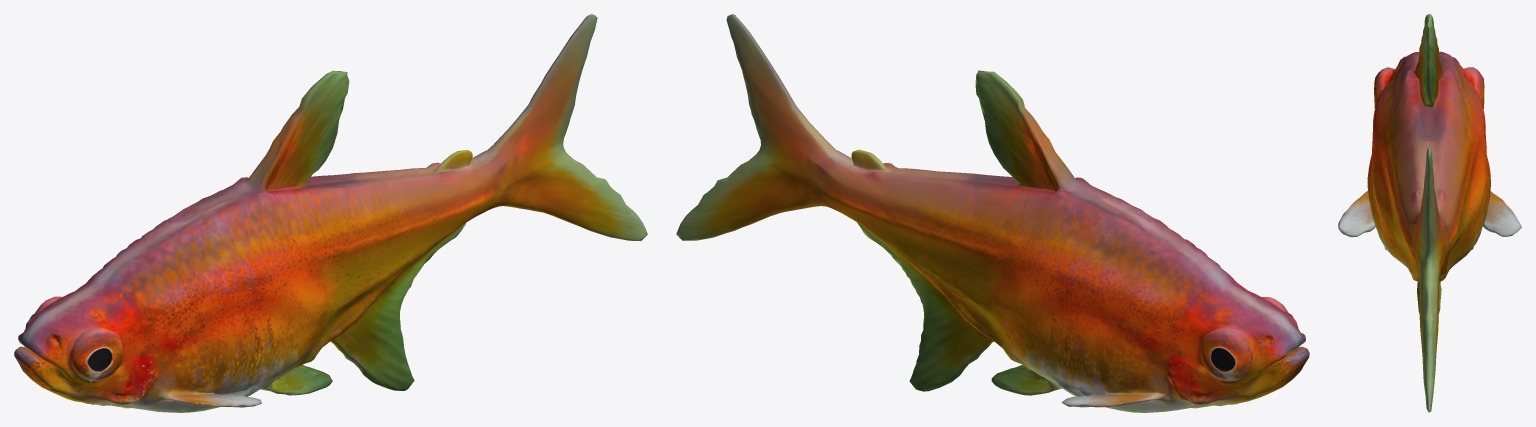
File: fish03.glb
3 renders of one model, left to right at view 1: azimuth 30°, elevation 25°; view 2: azimuth 150°, elevation 25°; view 3: azimuth 270°, elevation 25°, orthographic.
Visible parts, largest first — view 1: tripo_node_b8a3618d-1ba4-44a1-81ca-7f601f7a26a5; view 2: tripo_node_b8a3618d-1ba4-44a1-81ca-7f601f7a26a5; view 3: tripo_node_b8a3618d-1ba4-44a1-81ca-7f601f7a26a5.
Part boxes in pixels (bbox=[...]): tripo_node_b8a3618d-1ba4-44a1-81ca-7f601f7a26a5: bbox=[14, 14, 647, 412]; tripo_node_b8a3618d-1ba4-44a1-81ca-7f601f7a26a5: bbox=[676, 14, 1309, 412]; tripo_node_b8a3618d-1ba4-44a1-81ca-7f601f7a26a5: bbox=[1338, 14, 1521, 412].
Size of the model in its own units: 1 by 0.5115 by 0.2513.
1 material, 1 textured.
